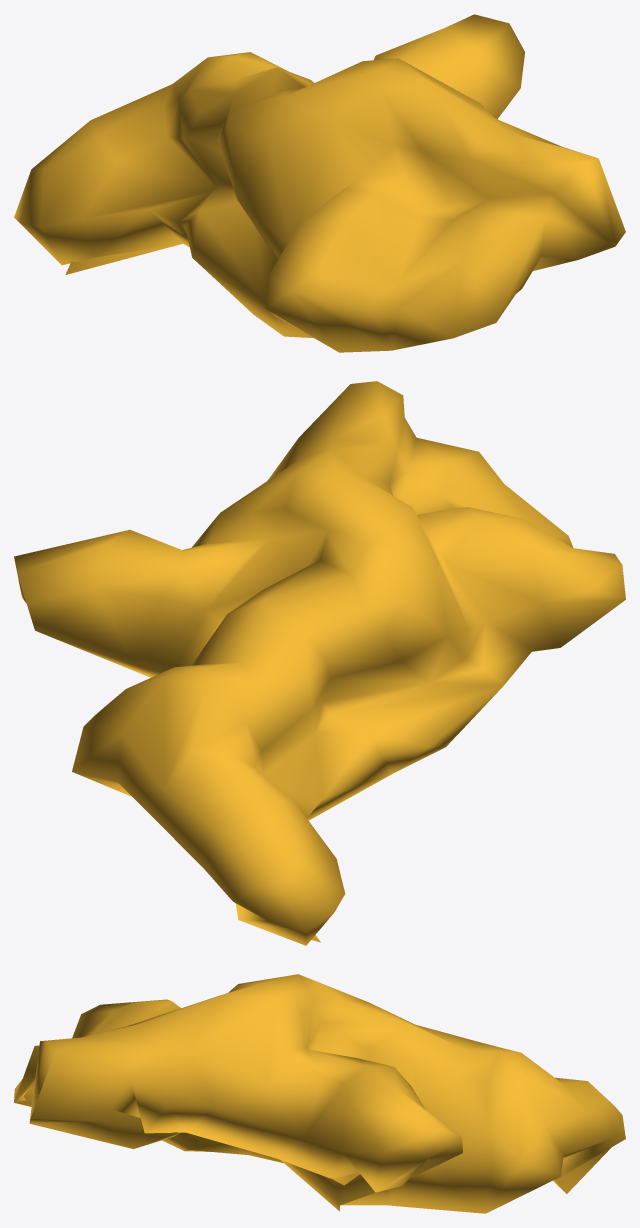
The model's file is nervoso-orbital-sulci-h-shaped-orbital-sulci-l.glb.
3 renders of one model, top to bottom at view 1: azimuth 30°, elevation 25°; view 2: azimuth 150°, elevation 25°; view 3: azimuth 270°, elevation 25°, orthographic. The views are drawn at different scales.
Parts seen in each view (by area): view 1: Orbital sulci (H-shaped orbital sulci*).l; view 2: Orbital sulci (H-shaped orbital sulci*).l; view 3: Orbital sulci (H-shaped orbital sulci*).l.
Part boxes in pixels (x1,y1,x2,y2): Orbital sulci (H-shaped orbital sulci*).l: (14, 14, 625, 352); Orbital sulci (H-shaped orbital sulci*).l: (14, 381, 625, 945); Orbital sulci (H-shaped orbital sulci*).l: (14, 974, 625, 1213).
Size of the model in its own units: 0.0285 by 0.0192 by 0.0415.
